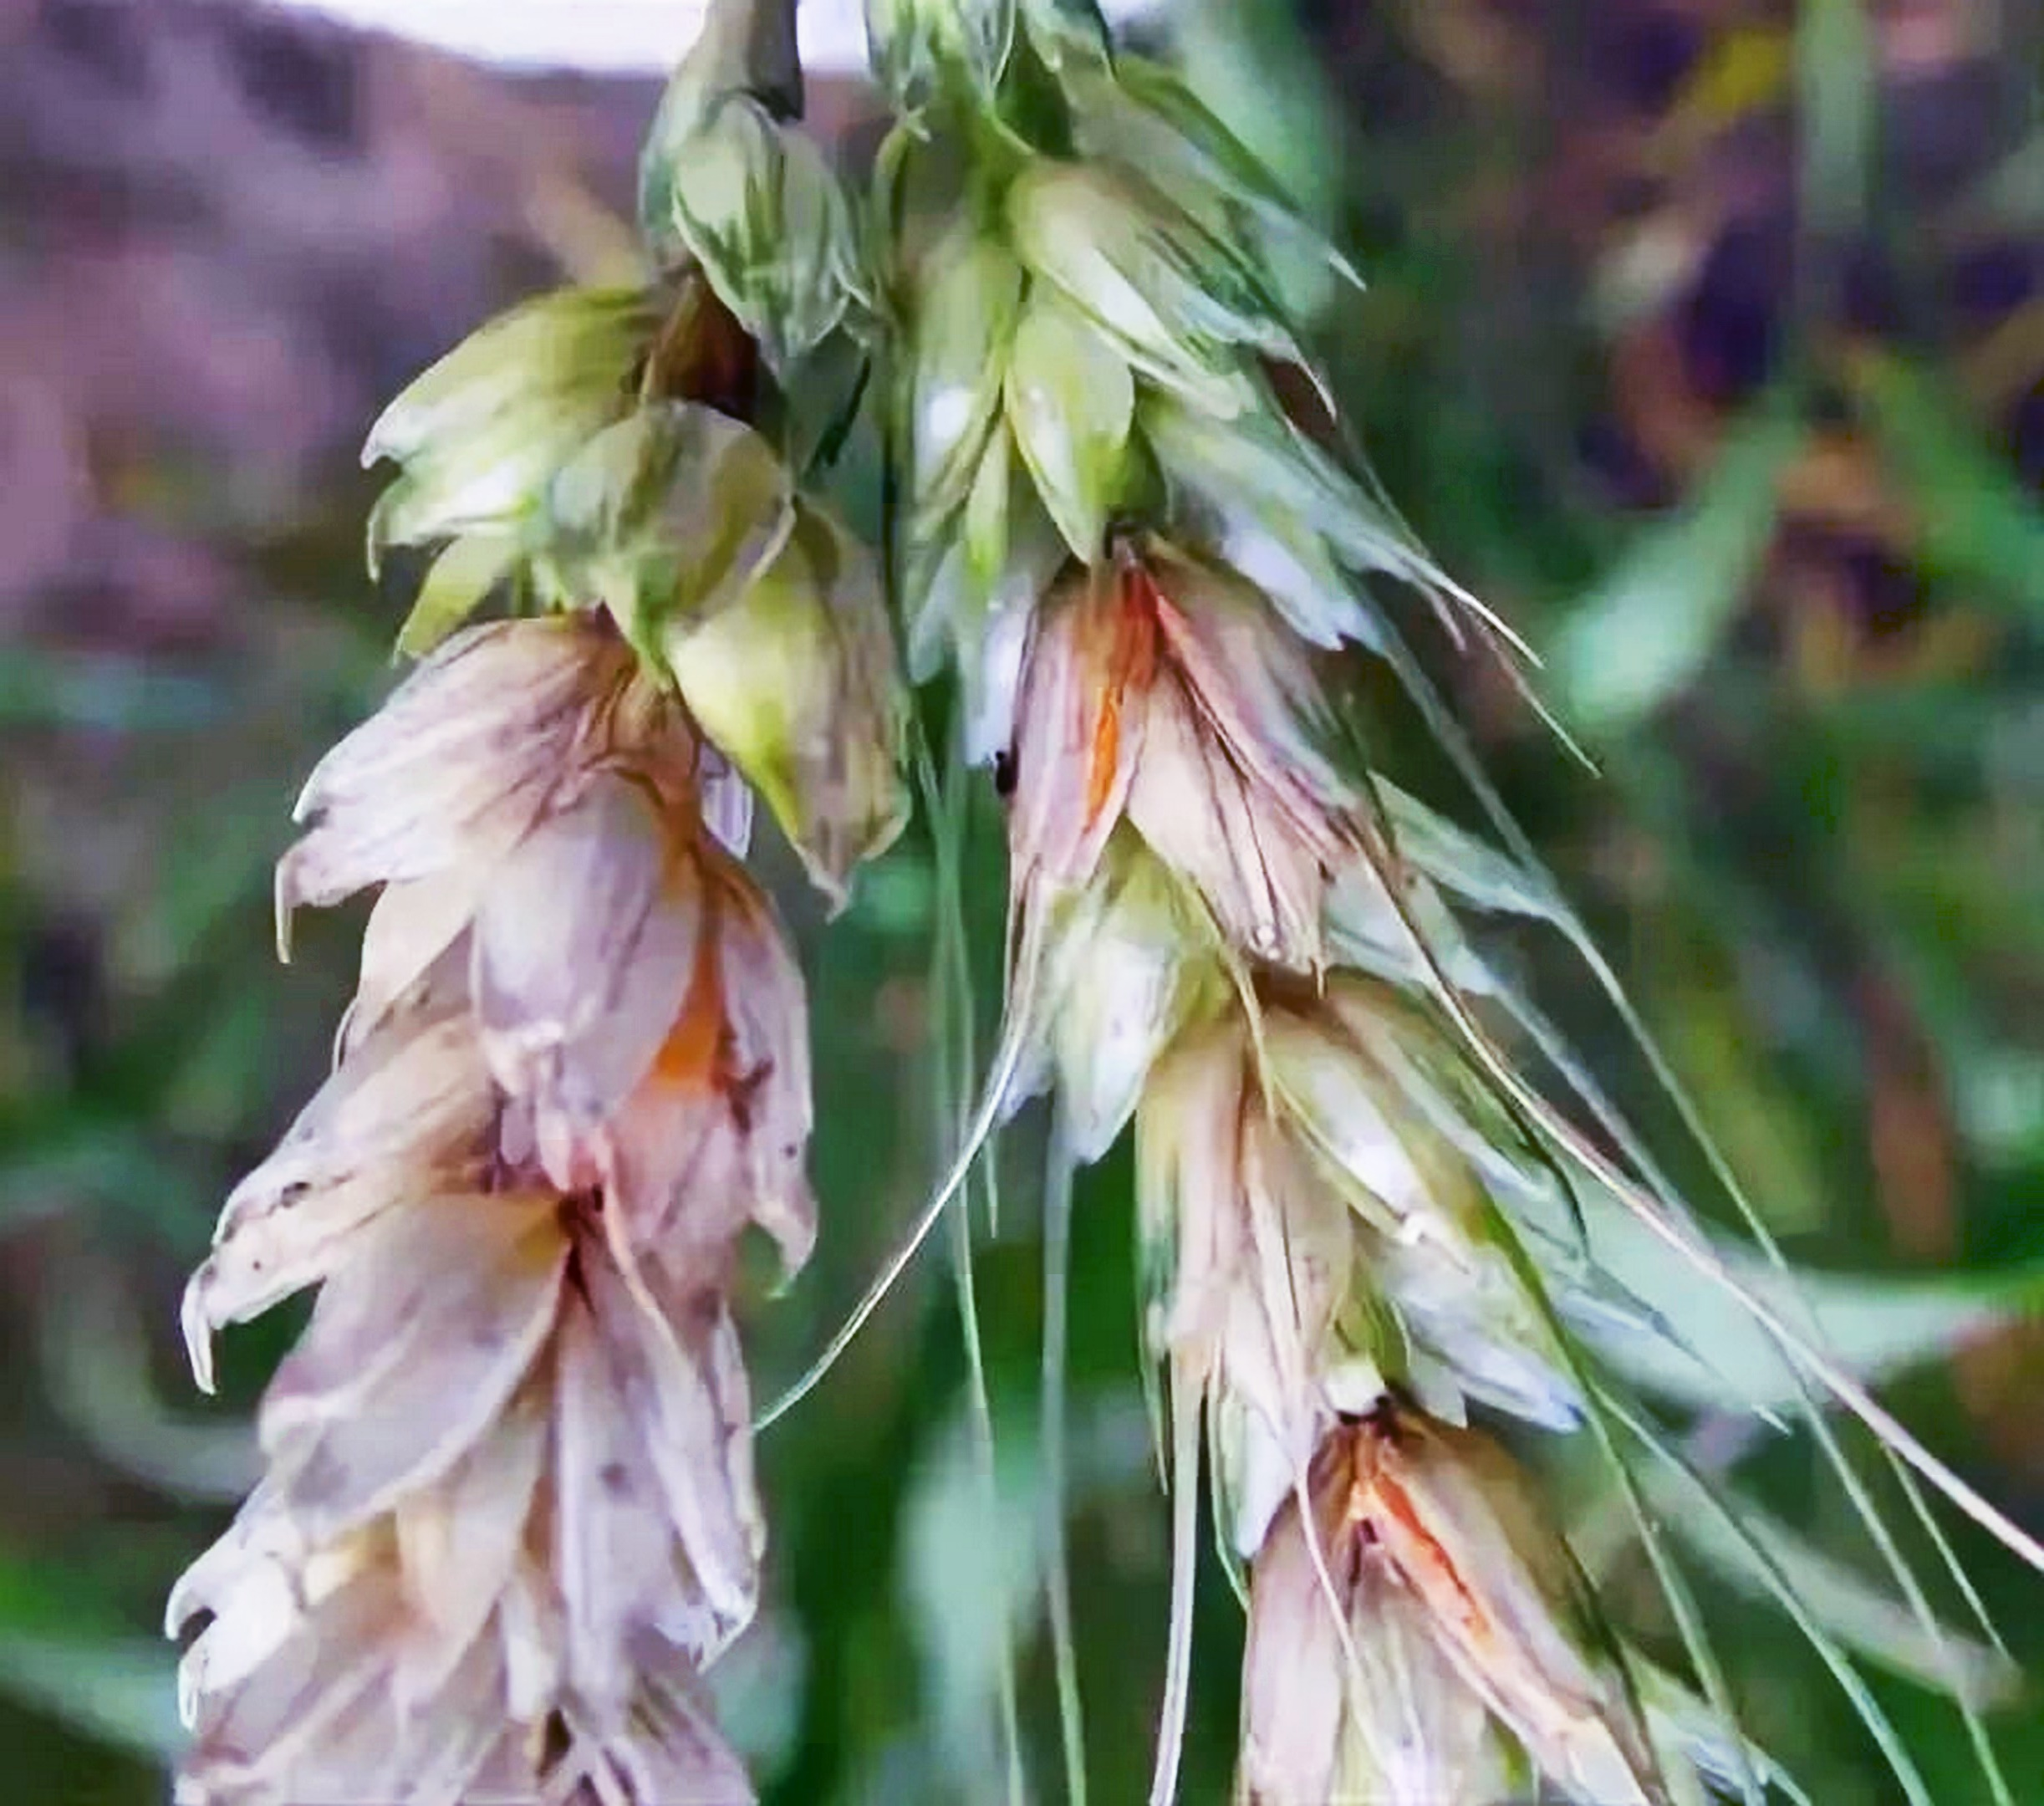Wheat scab: (863, 70, 1765, 1783)
